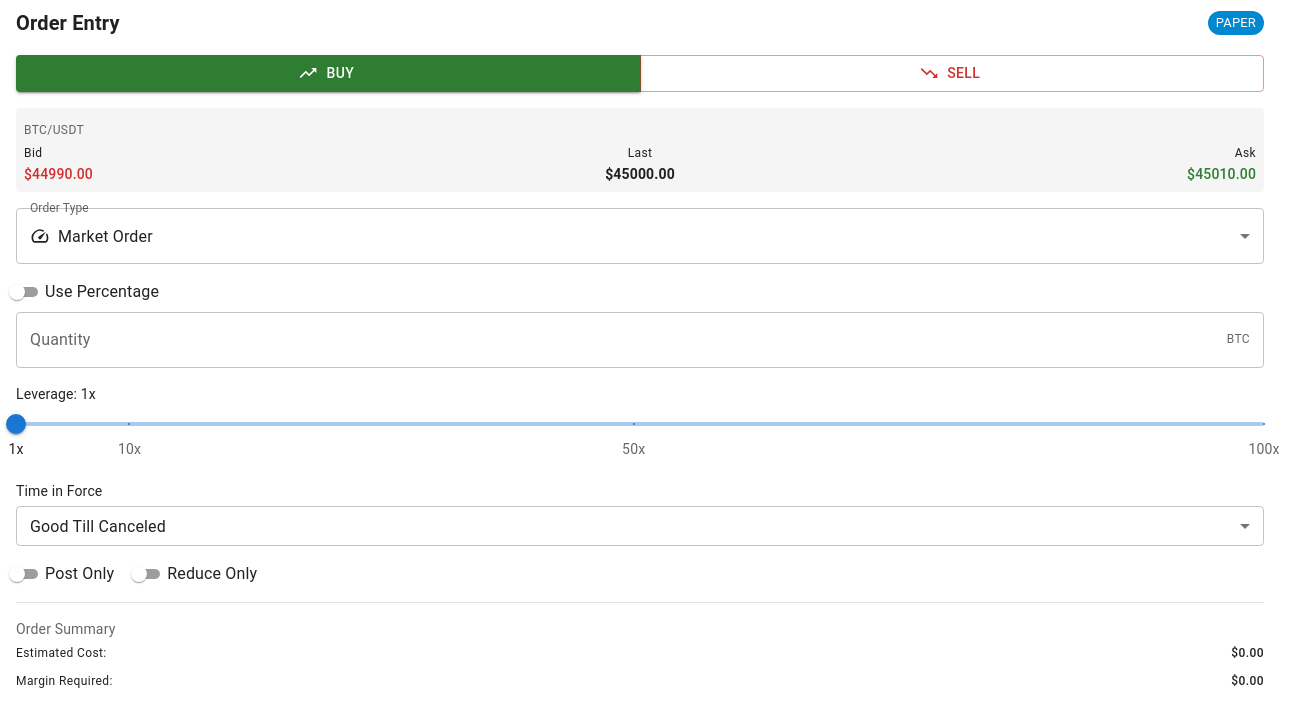
Test: OrderEntry Component › validates order submission
Type "0.5" into the number field labelled "Quantity" at (617, 340), box [16,312,1219,368]
(page scrolled)
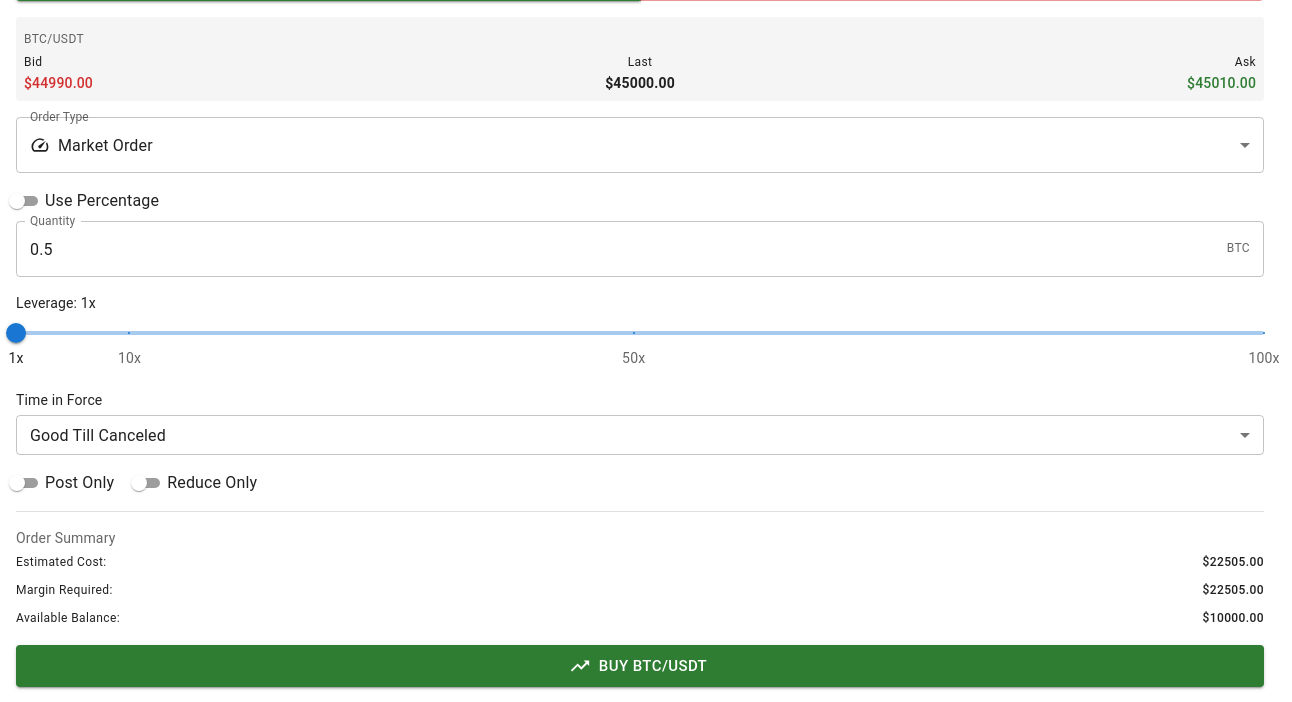
Click the button "BUY BTC/USDT" at (640, 666), box [16,645,1264,687]
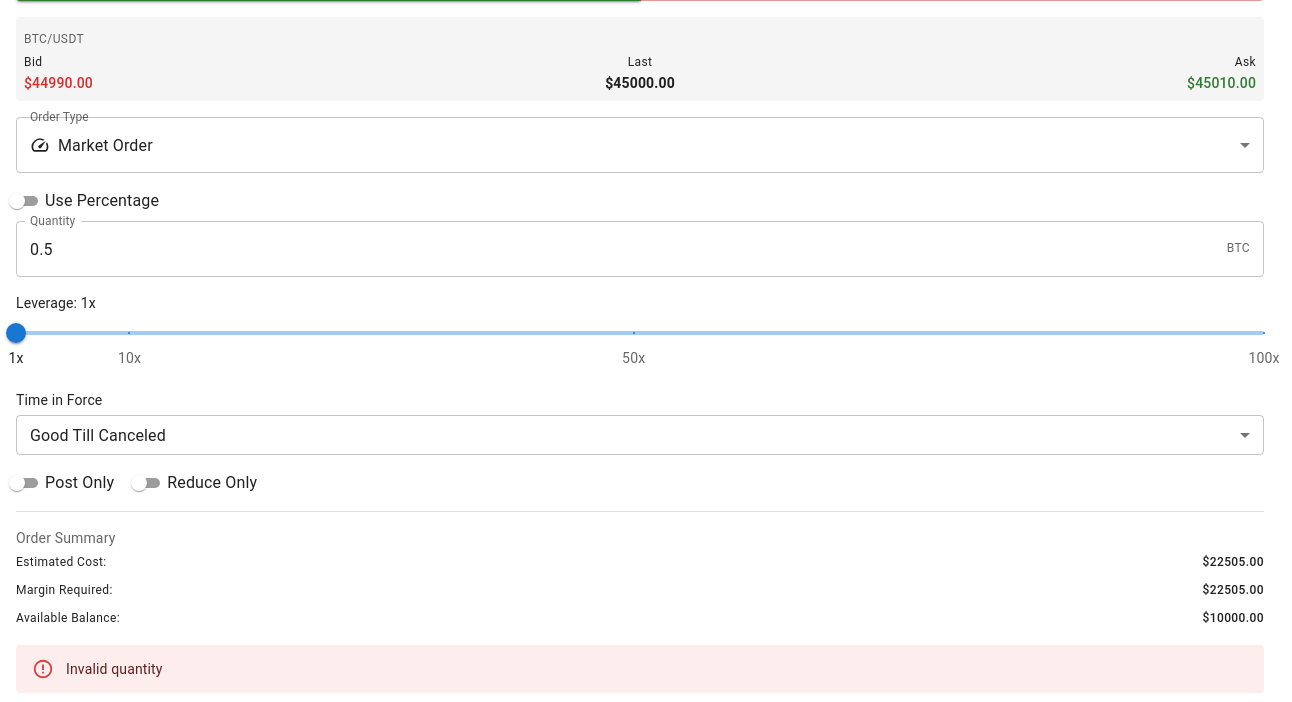
Result: the text "Invalid quantity" is shown at [66,661,163,677]
